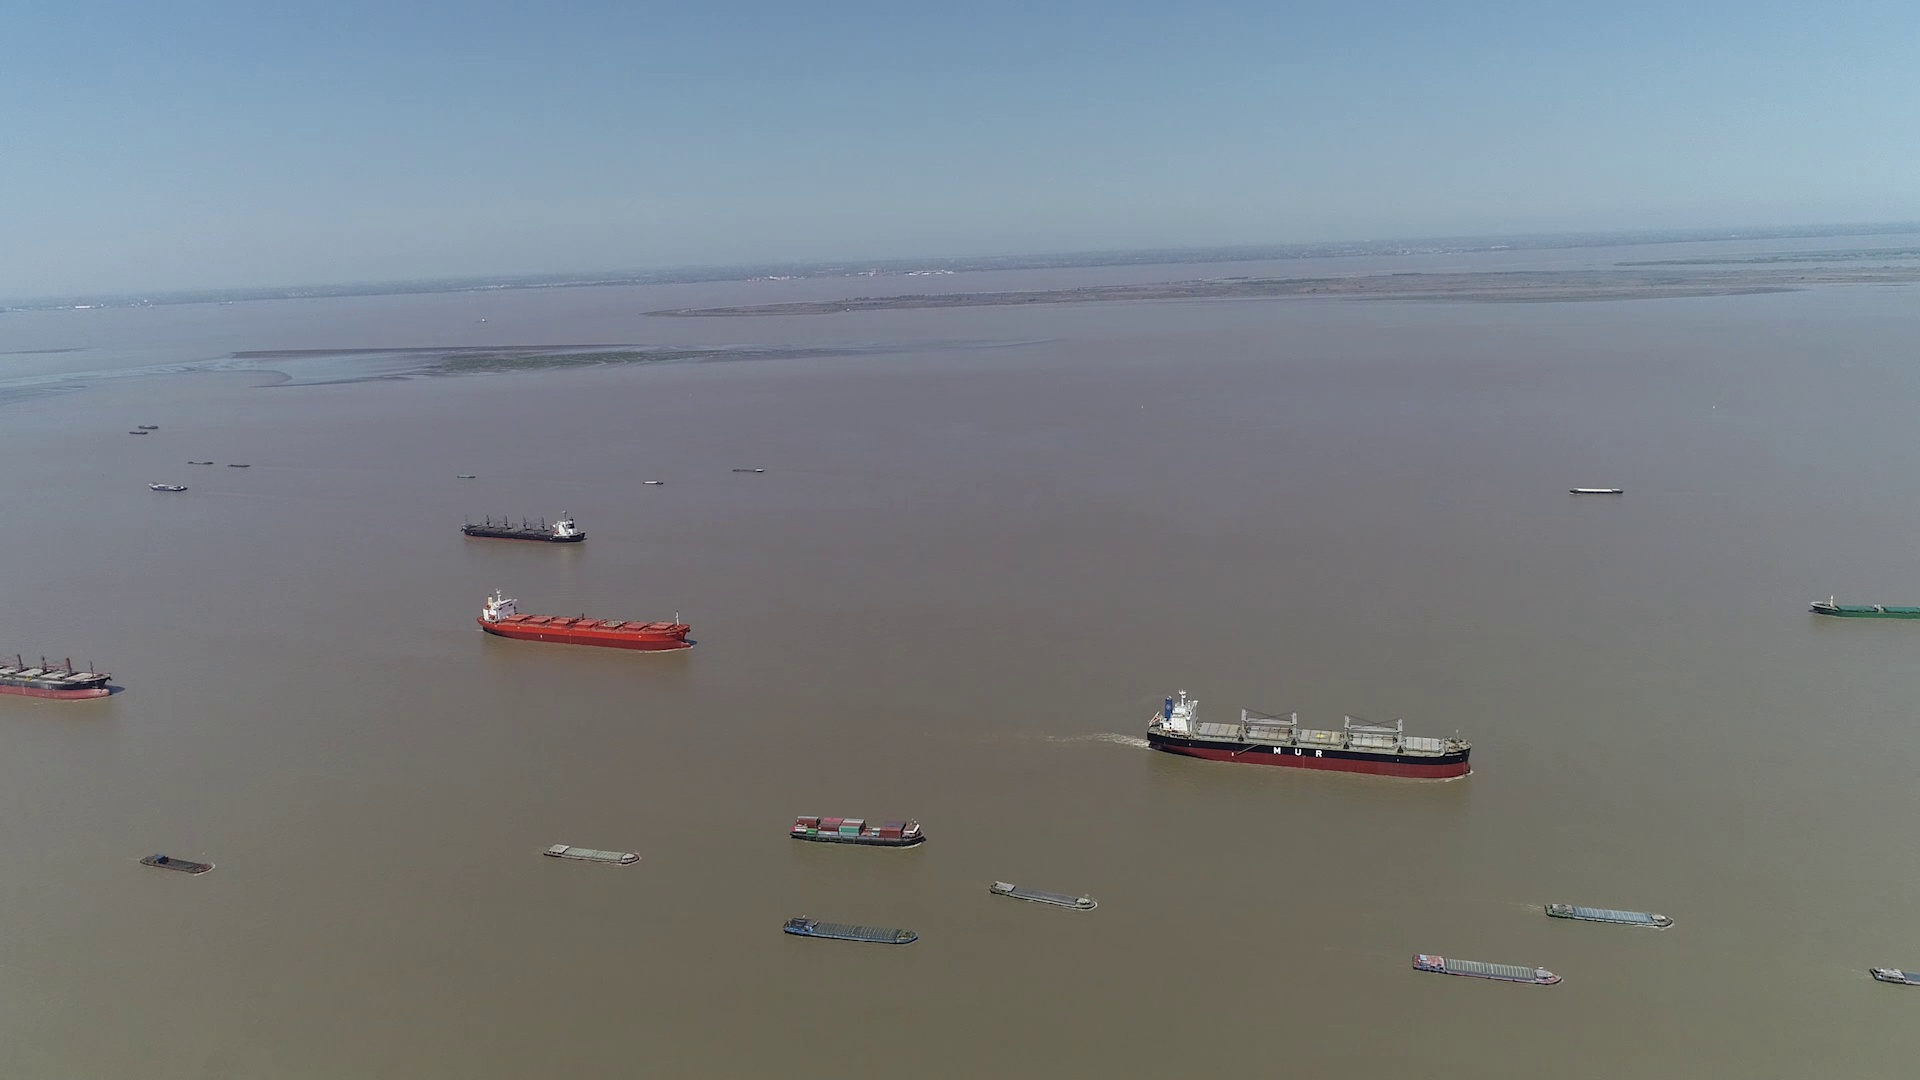ship: (1149, 690, 1472, 781), (483, 591, 688, 651), (0, 640, 117, 702), (1414, 952, 1563, 984), (790, 814, 924, 847), (778, 915, 916, 945), (464, 512, 585, 545), (989, 881, 1098, 913), (1544, 901, 1671, 927), (1811, 597, 1920, 620), (545, 843, 642, 865), (141, 855, 214, 876), (1869, 965, 1917, 989), (1571, 487, 1621, 496), (149, 481, 187, 493)
